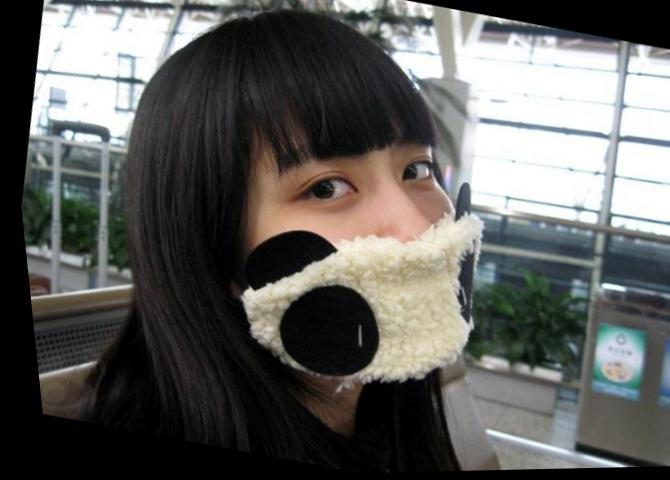WRONG: (206, 113, 508, 397)
